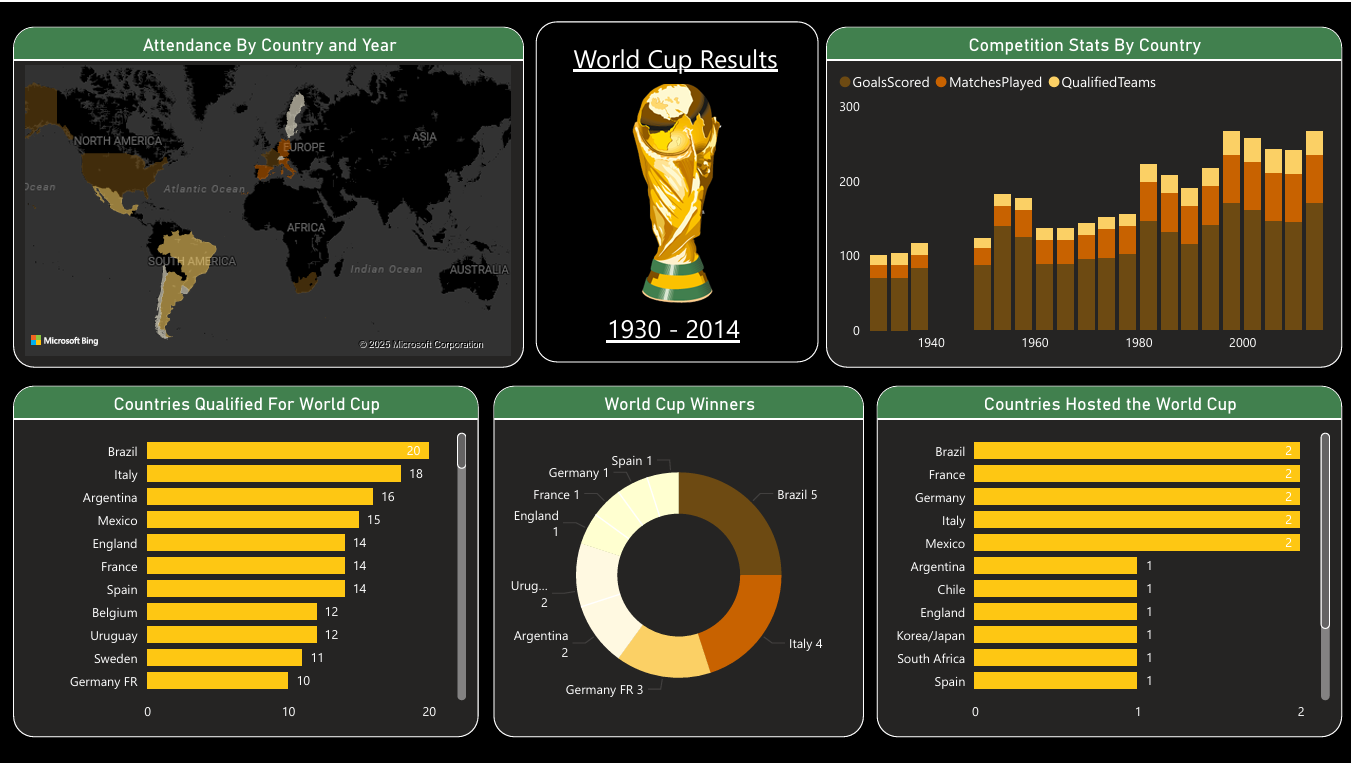

What the dashboard file says about the page in this screenshot:
{"tool":"powerbi","page":{"name":"Page 1","canvas":[1280,720],"ordinal":0},"visuals":[{"type":"image","box":[508.3,18.2,267.8,323.3],"z":0,"group":"g1"},{"type":"columnChart","title":"Competition Stats By Country","fields":{"Y":["Sum(WorldCups.GoalsScored)","Sum(WorldCups.MatchesPlayed)","Sum(WorldCups.QualifiedTeams)"],"Category":["WorldCups.Year"]},"box":[783,22.9,488.6,323.3],"z":0},{"type":"textbox","box":[526.3,31.4,229.4,45.8],"z":1000,"group":"g1"},{"type":"donutChart","title":"World Cup Winners","fields":{"Category":["WorldCups.Winner"],"Y":["CountNonNull(WorldCups.Winner)"]},"box":[468.1,363.1,351.1,333],"z":1000},{"type":"group","id":"g1","title":"Group 1","box":[508.3,18.2,267.8,323.3],"z":2000},{"type":"textbox","box":[539.3,287,199.1,45.8],"z":2000,"group":"g1"},{"type":"barChart","title":"Countries Qualified For World Cup","fields":{"Category":["World Cup - Tableau format.Team"],"Y":["Count(World Cup - Tableau format.Year)"]},"box":[13.3,363.1,440.4,333],"z":3000},{"type":"barChart","title":"Countries Hosted the World Cup","fields":{"Category":["WorldCups.Country"],"Y":["CountNonNull(WorldCups.Country)"]},"box":[831.2,363.1,440.4,333],"z":4000},{"type":"filledMap","title":"Attendance By Country and Year","fields":{"Category":["WorldCups.Country"],"Series":["WorldCups.Attendance"]},"box":[13.3,22.9,483.8,323.3],"z":5000}]}

Visuals, with their boxes in screenshot pixels (x1, y1, x2, y2), scaled from the page's 1280x720 canvas onto the 1351x764 screenshot:
image: crop(536, 19, 819, 362)
"Competition Stats By Country" columnChart: crop(826, 24, 1342, 367)
textbox: crop(555, 33, 798, 82)
"World Cup Winners" donutChart: crop(494, 385, 865, 739)
"Group 1" group: crop(536, 19, 819, 362)
textbox: crop(569, 305, 779, 353)
"Countries Qualified For World Cup" barChart: crop(14, 385, 479, 739)
"Countries Hosted the World Cup" barChart: crop(877, 385, 1342, 739)
"Attendance By Country and Year" filledMap: crop(14, 24, 525, 367)
